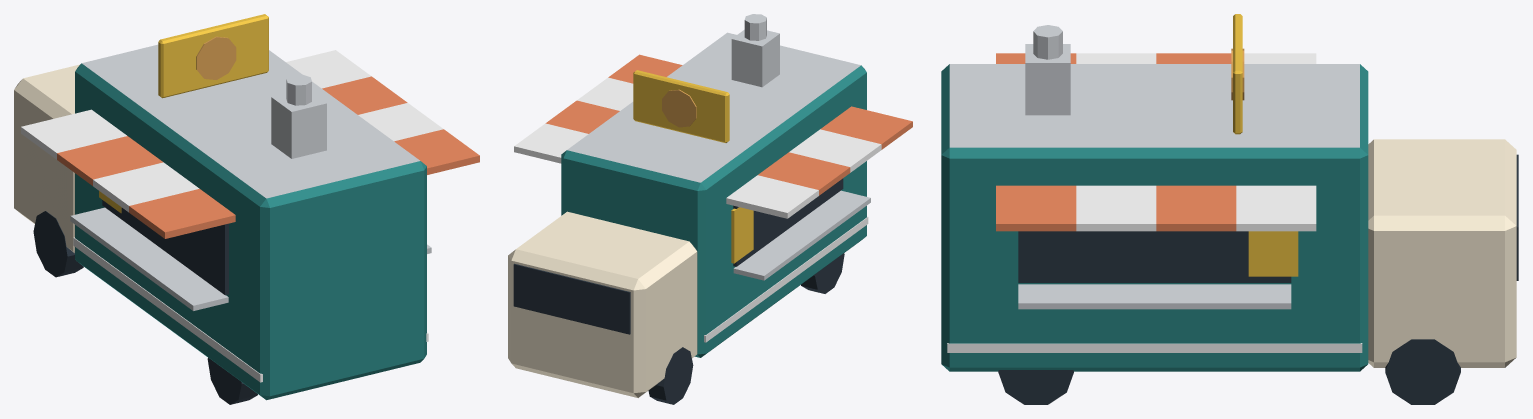
Rendered from truck_box.fbx.
The picture shows the model from 3 angles, left to right: view 1: azimuth 30°, elevation 25°; view 2: azimuth 150°, elevation 25°; view 3: azimuth 270°, elevation 25°; orthographic projection. The views are drawn at different scales.
Visible parts, largest first — view 1: truck_box; view 2: truck_box; view 3: truck_box.
Part boxes in pixels (left/top/right/bottom): truck_box: left=14, top=14, right=479, bottom=404; truck_box: left=508, top=14, right=912, bottom=404; truck_box: left=941, top=14, right=1518, bottom=404.
Bounding box in the file's own units: 4.9 × 4.43 × 7.01.
